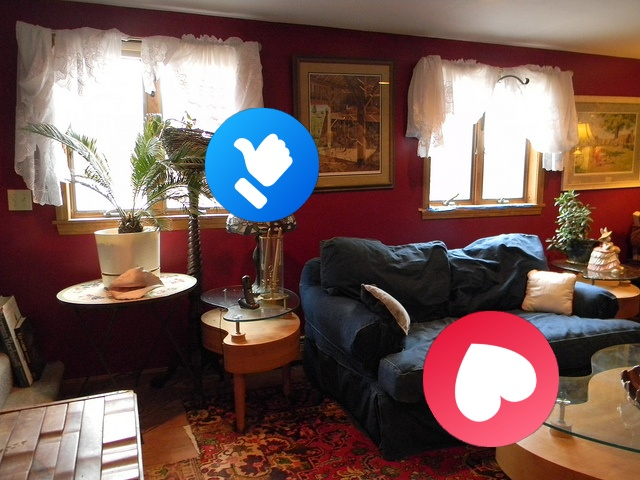like: (205, 108, 319, 222)
love: (423, 311, 559, 447)
